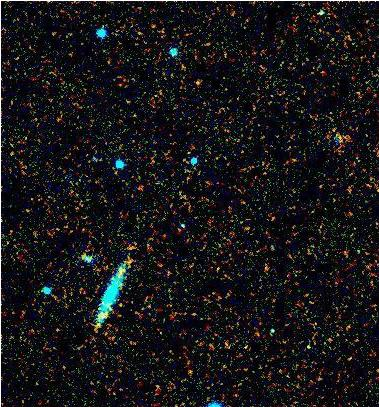star: (290, 326, 320, 356)
